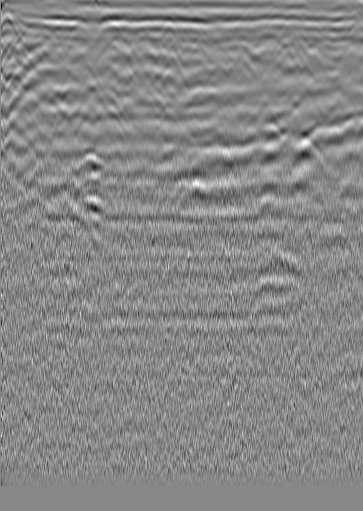가스: (72, 190, 110, 226)
상수: (315, 29, 335, 49)
오수: (15, 33, 35, 53)
우수: (169, 33, 189, 53)
